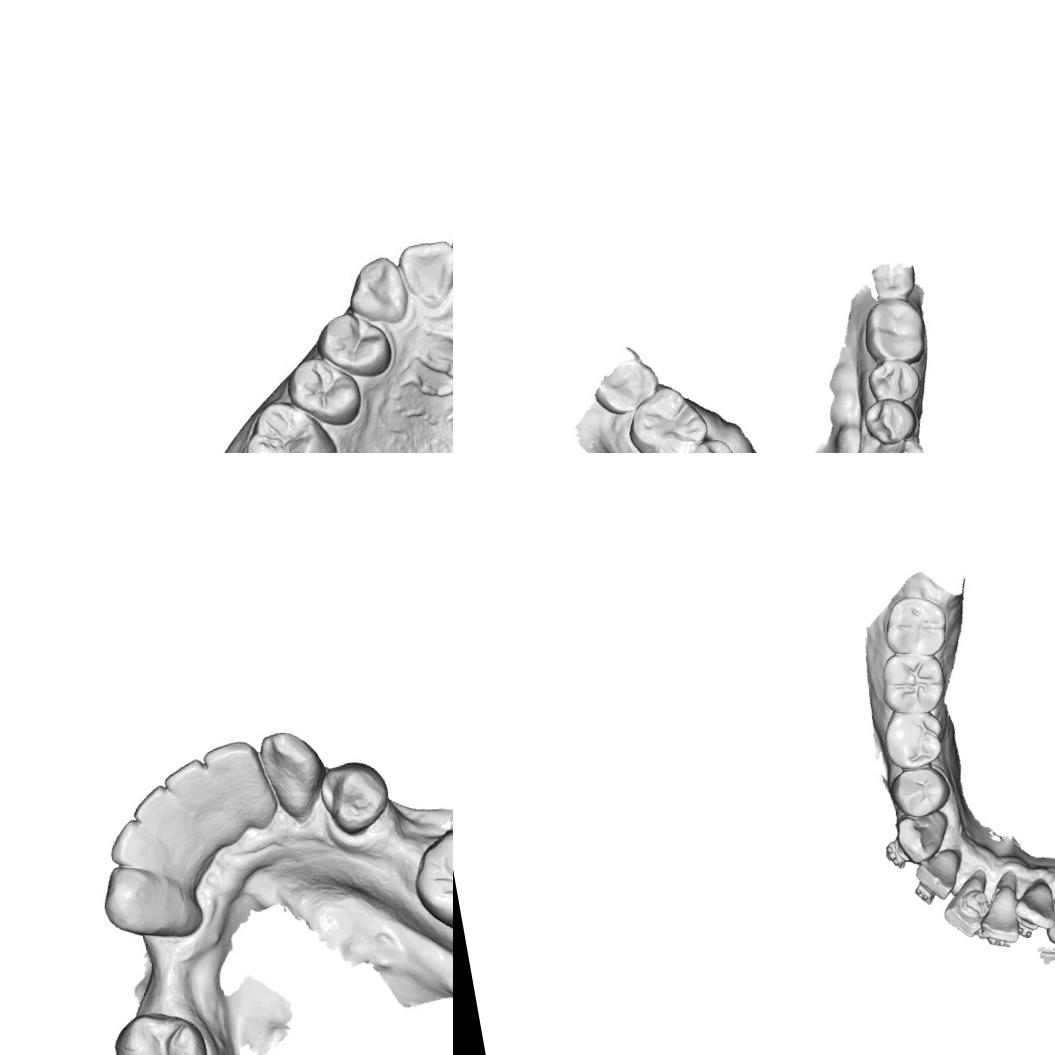canine: (95, 852, 206, 952), (254, 724, 330, 824), (878, 806, 955, 872), (345, 253, 410, 325), (1035, 875, 1055, 960), (871, 434, 929, 453)
incisor: (966, 867, 1031, 952), (934, 864, 997, 941), (198, 734, 266, 800), (904, 844, 970, 909), (396, 235, 453, 306), (157, 752, 220, 816), (126, 779, 187, 842), (106, 814, 163, 878), (1006, 872, 1055, 935)
molar: (619, 378, 714, 453), (101, 1001, 221, 1055), (404, 815, 453, 945), (242, 394, 342, 453), (856, 293, 932, 370), (874, 644, 949, 719), (877, 588, 953, 662), (588, 352, 663, 418), (862, 249, 920, 305)
premolar: (312, 754, 395, 837), (316, 308, 396, 382), (284, 352, 359, 426), (876, 703, 948, 774), (882, 762, 955, 822), (859, 392, 921, 448), (863, 355, 923, 407), (670, 432, 745, 453)
